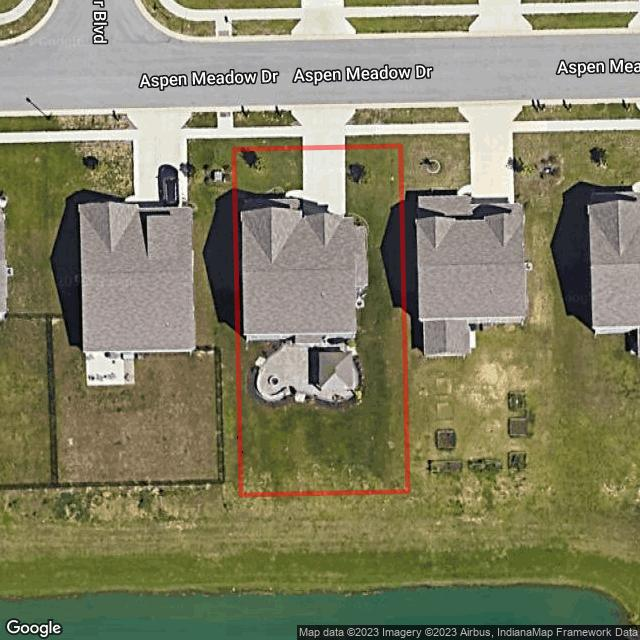Driveway: (281, 150, 347, 217)
Extra Driveway: (287, 105, 356, 145)
Extra Lawn: (233, 110, 303, 127), (345, 108, 403, 125), (233, 138, 303, 147), (345, 134, 403, 144)
Extra Sidewalk: (232, 125, 304, 138), (345, 124, 402, 136)
House: (242, 198, 368, 341)
Other: (257, 342, 359, 405), (255, 356, 266, 367)
